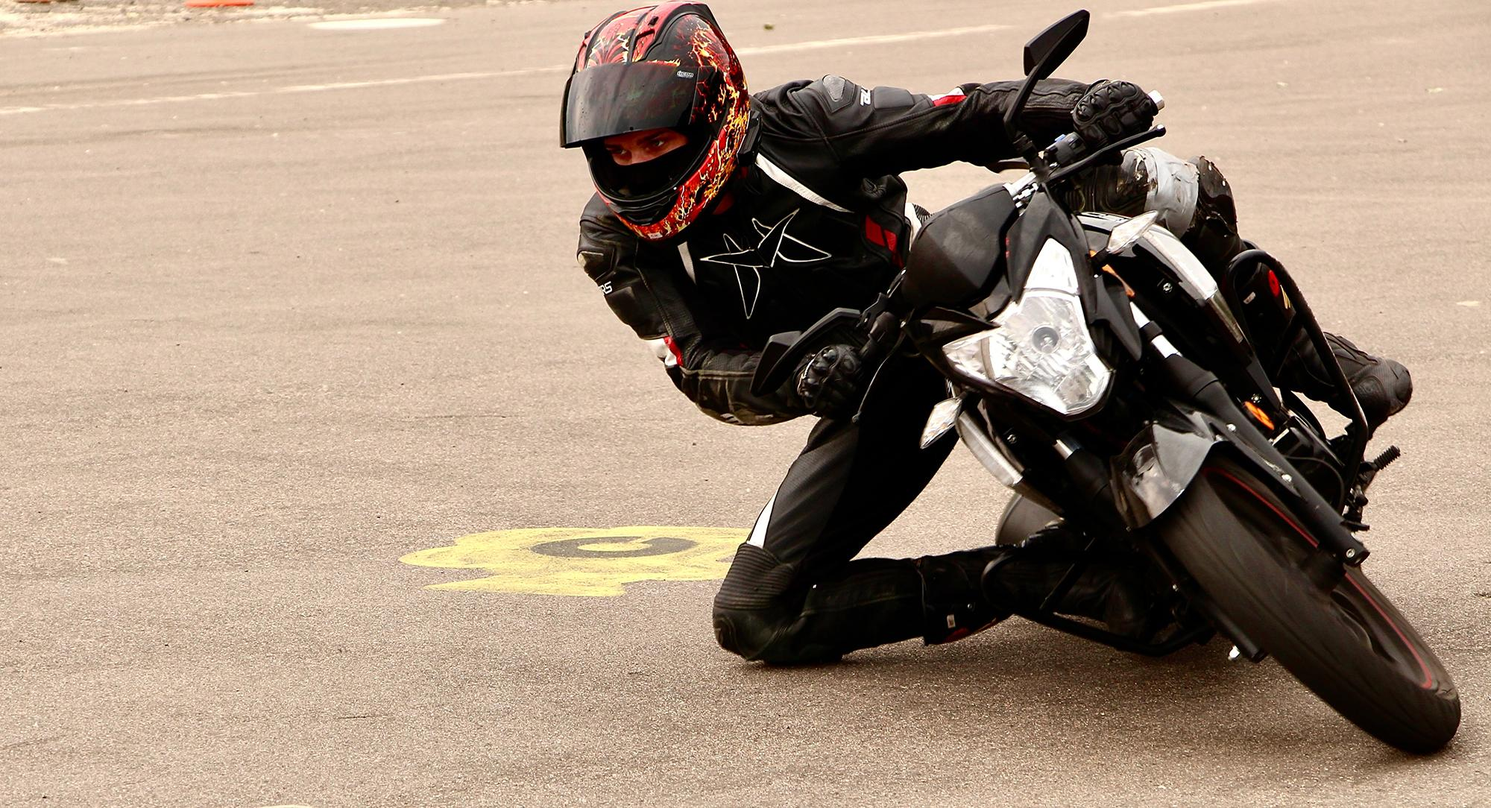helmet: (558, 0, 752, 249)
